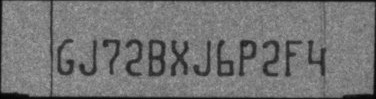2: (125, 39, 143, 76), (263, 39, 280, 77)
4: (308, 39, 327, 77)
6: (217, 38, 233, 76)
7: (103, 38, 121, 74)
B: (148, 38, 166, 77)
F: (285, 39, 304, 76)
G: (56, 38, 75, 76)
J: (78, 38, 99, 76), (192, 39, 212, 76)
P: (238, 39, 257, 76)
X: (170, 38, 189, 76)
